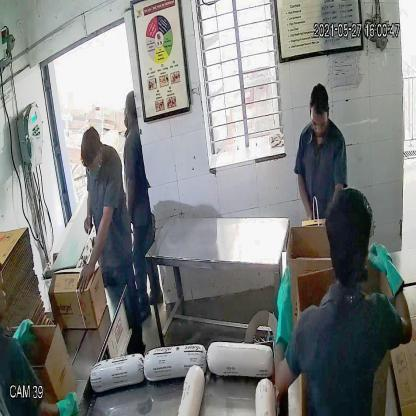no_goggles: (310, 112, 330, 131)
